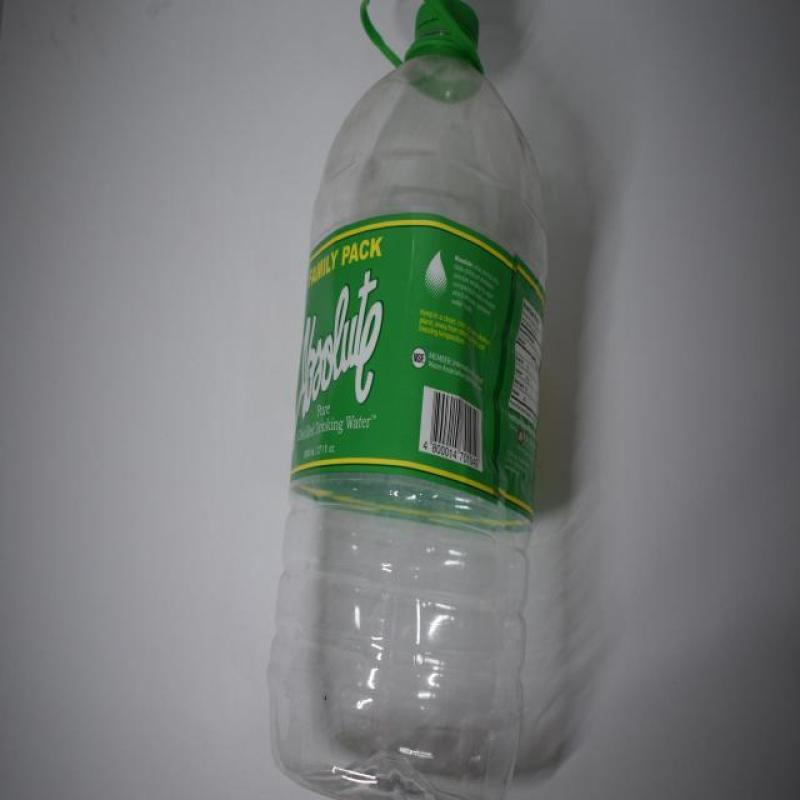botella: (265, 0, 550, 800)
